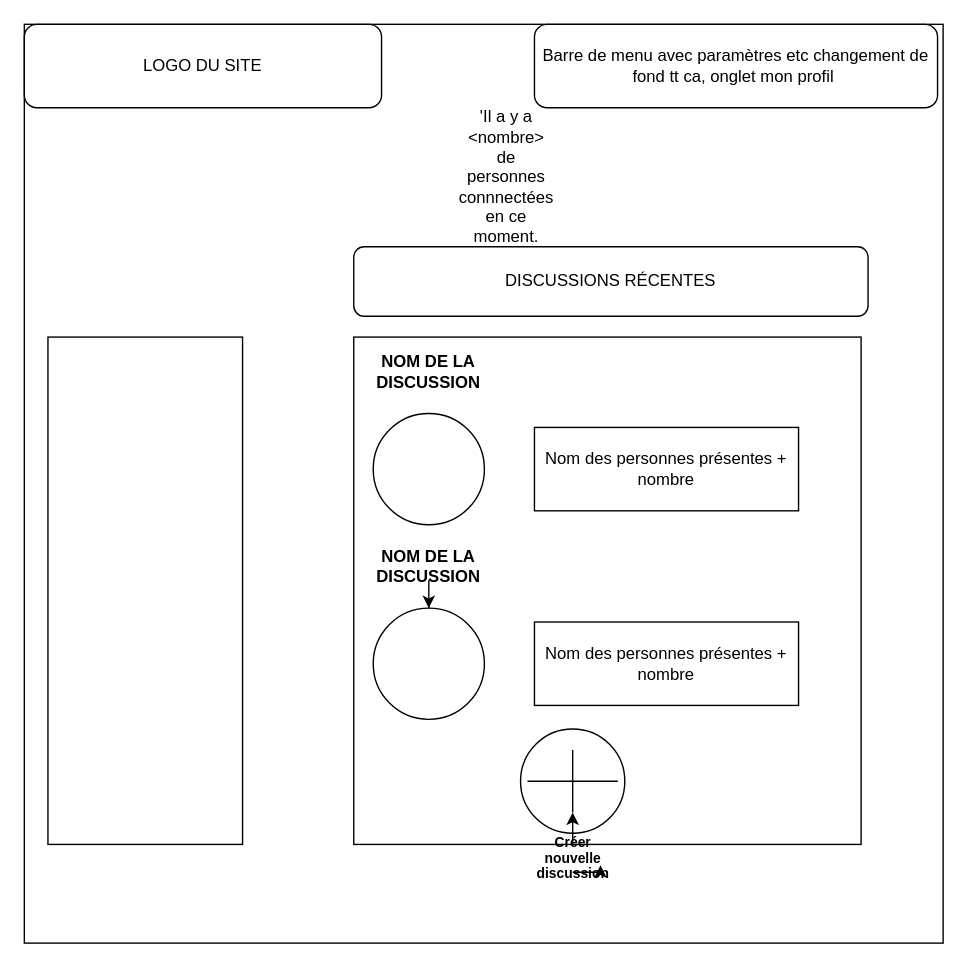
Image size: 967x967. Some labels were removed from this diagram. The centre of each missing label's shape, as x and y in pixels:
"IDEM" belongs at [428,663].
"Liste de toutes les discussions" belongs at [145,590].
"Photos de profils des personnes de la discussions" belongs at [428,468].
